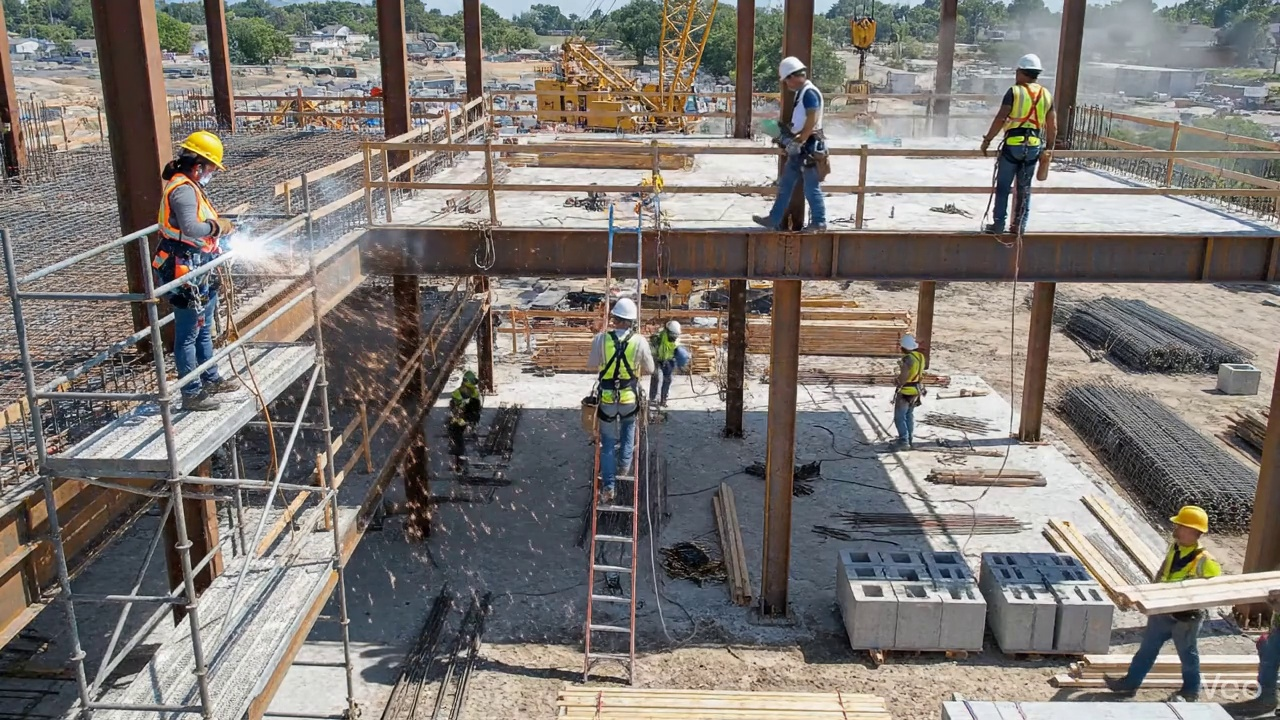PG: (1112, 610, 1203, 700), (1154, 506, 1221, 582), (446, 370, 482, 472), (893, 333, 924, 447), (649, 320, 688, 406)
PH: (587, 298, 654, 503), (980, 54, 1056, 234), (752, 56, 829, 230), (152, 131, 233, 285), (169, 275, 218, 377), (181, 366, 238, 410)
